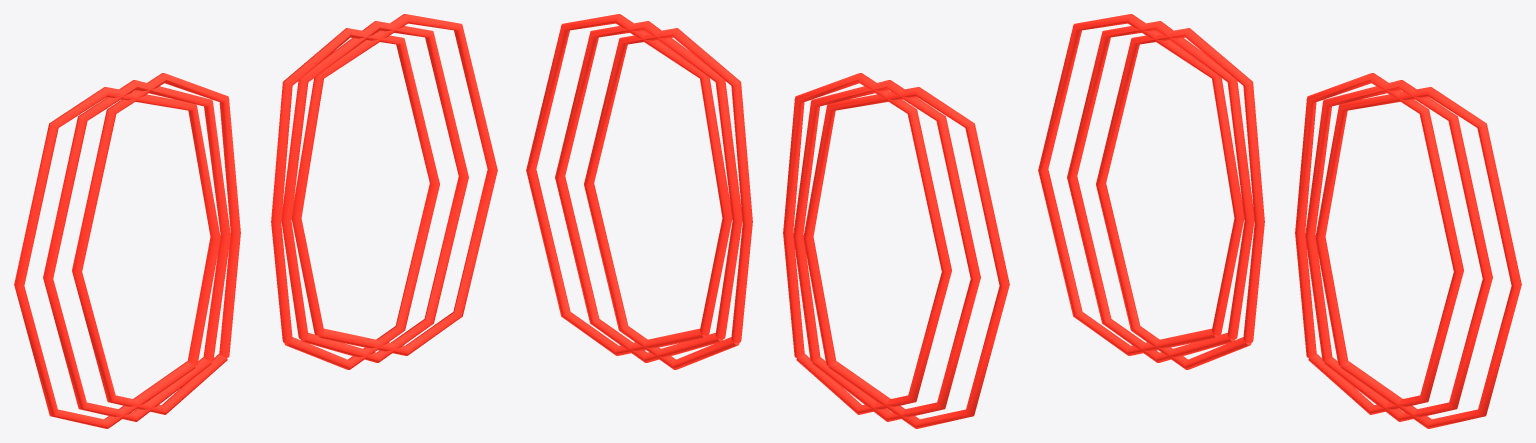
The model's file is solenoid_valve_magnetic_field.glb.
3 views of the same model, side by side, from view 1: azimuth 30°, elevation 25°; view 2: azimuth 150°, elevation 25°; view 3: azimuth 330°, elevation 25° (orthographic).
Visible parts, largest first — view 1: field__front, field__back; view 2: field__back, field__front; view 3: field__front, field__back.
Boxes of the visible parts, x1,y1,x2,y2 form: field__front: (14,14,497,428); field__back: (14,14,487,419); field__back: (526,14,1009,428); field__front: (536,14,1009,419); field__front: (1038,14,1521,428); field__back: (1048,14,1521,419).
Bounding box in the file's own units: 0.1672 × 0.1132 × 0.0032.
